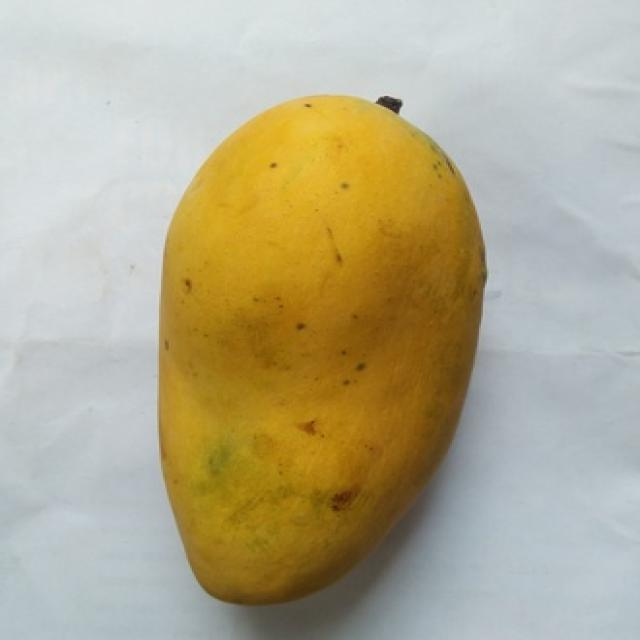Mango: (159, 96, 485, 602)
